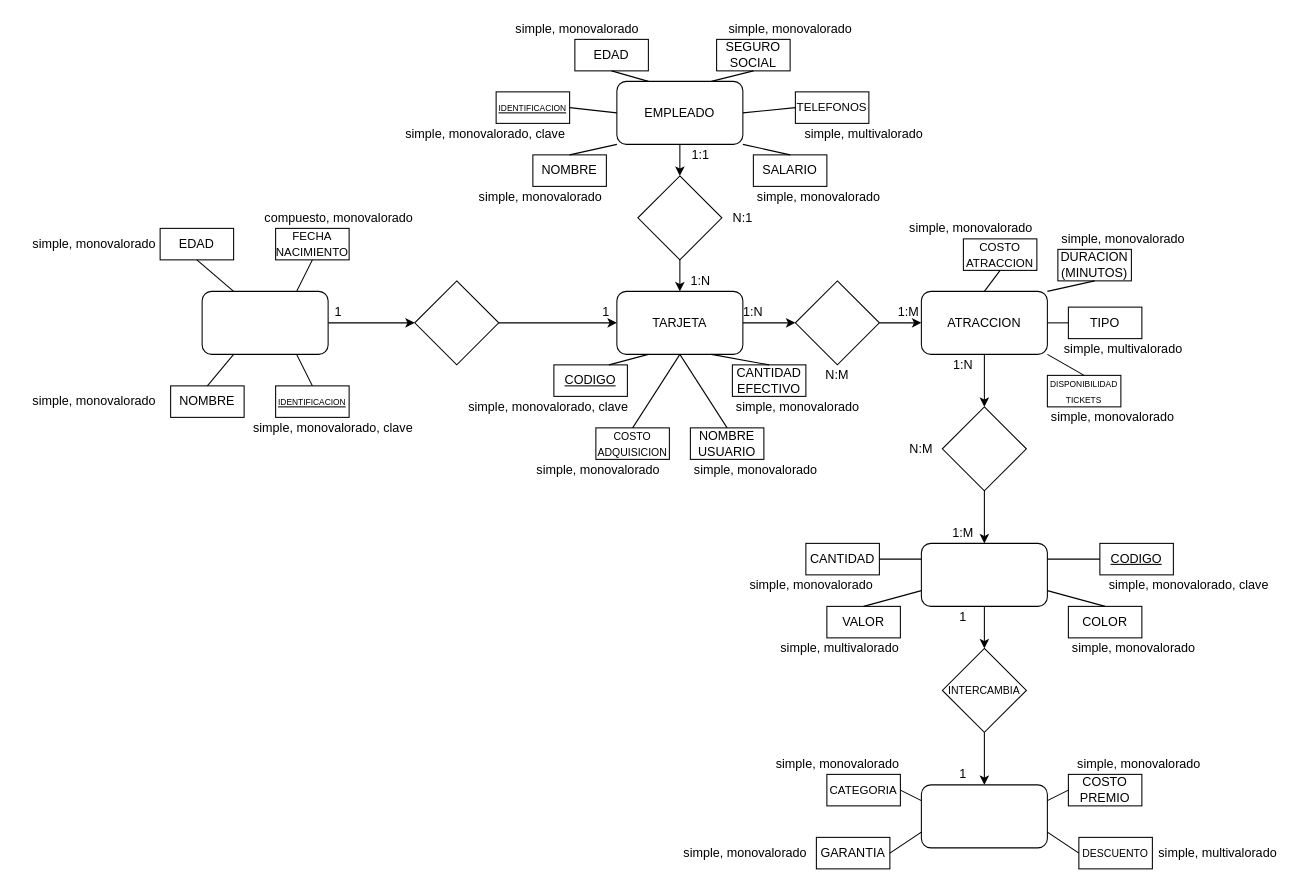
Some shapes in this 1311 by 887 pixel diagram are drawn without their labels. Each missing label, with the centre of its shape:
"COMPRA" goes at pixel 456 322.
"CONSIGUE" goes at pixel 983 448.
"PREMIO" goes at pixel 983 816.
"RECARGA" goes at pixel 679 217.
"SE USA PARA" goes at pixel 836 322.
"TICKETS" goes at pixel 983 574.
"USUARIO" goes at pixel 264 322.
